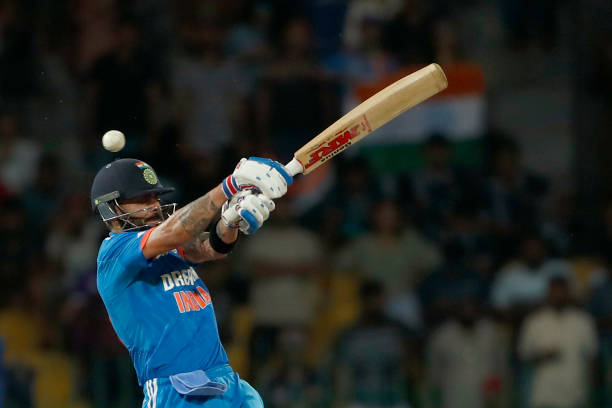bottom left: (420, 61, 447, 79)
bottom right: (437, 77, 457, 95)
top left: (282, 145, 304, 163)
top right: (300, 166, 315, 179)
